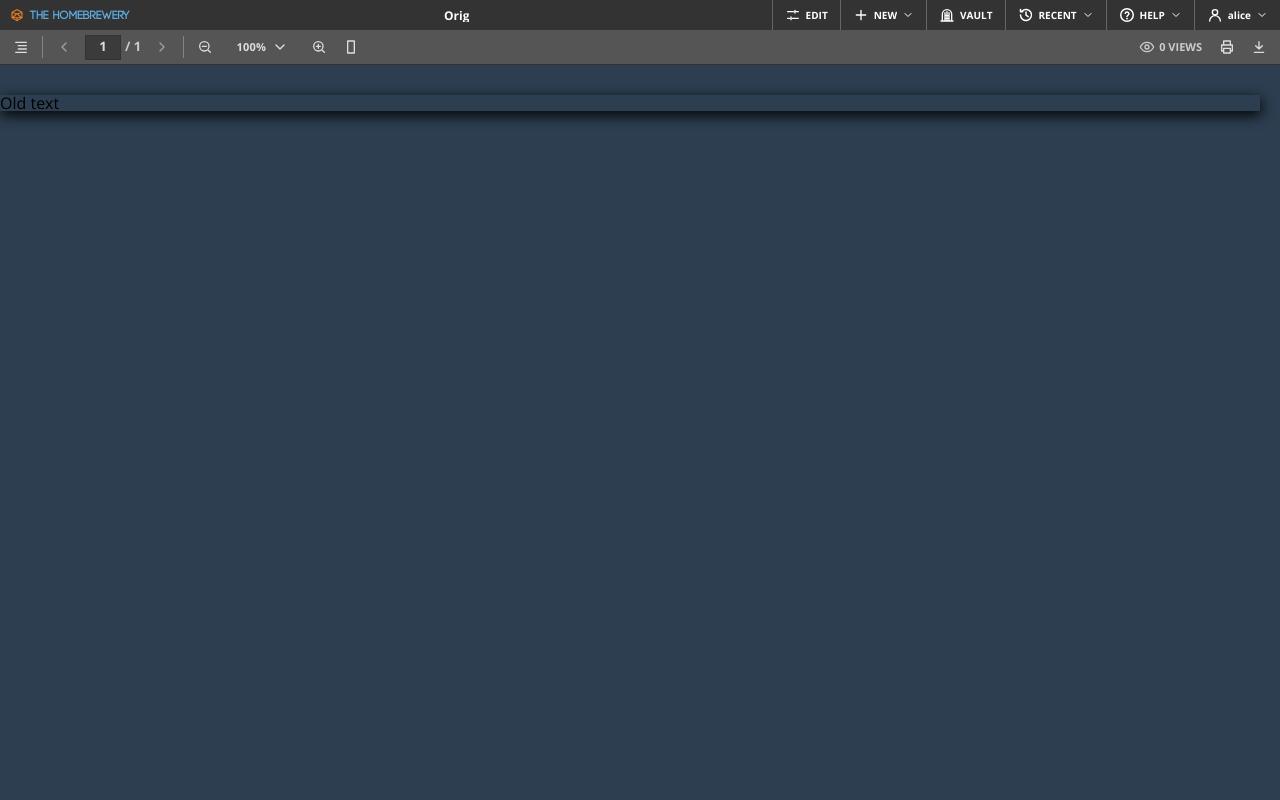
share page › an author who signs out loses the Edit link, and no view is counted
The width and height of the screenshot is (1280, 800).
Expected: the link with test id "nav-edit" is shown, [772,0,840,30]
Step 1. Click the button with aria-label "Account: alice" → click(1237, 15), box [1194,0,1279,30]
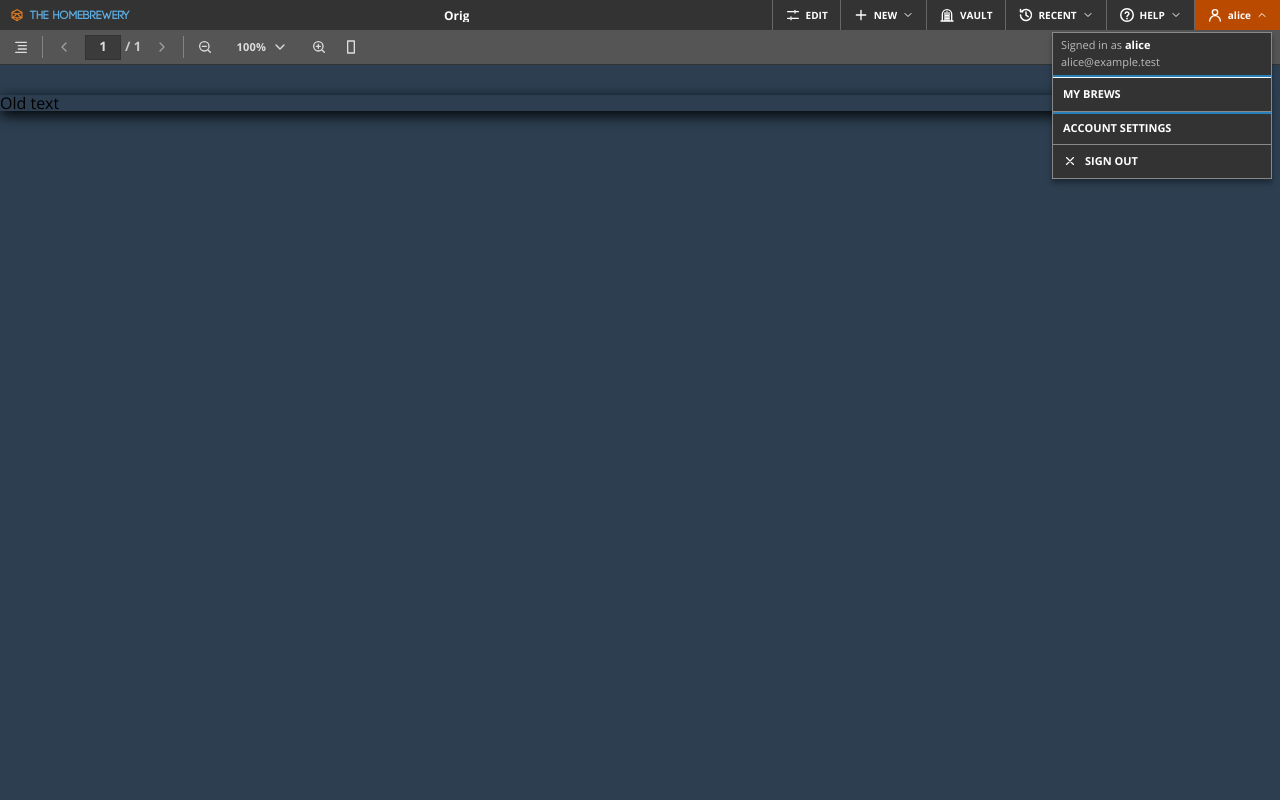
Step 2. Click the button "Sign out" → click(1162, 161), box [1053,144,1271,178]
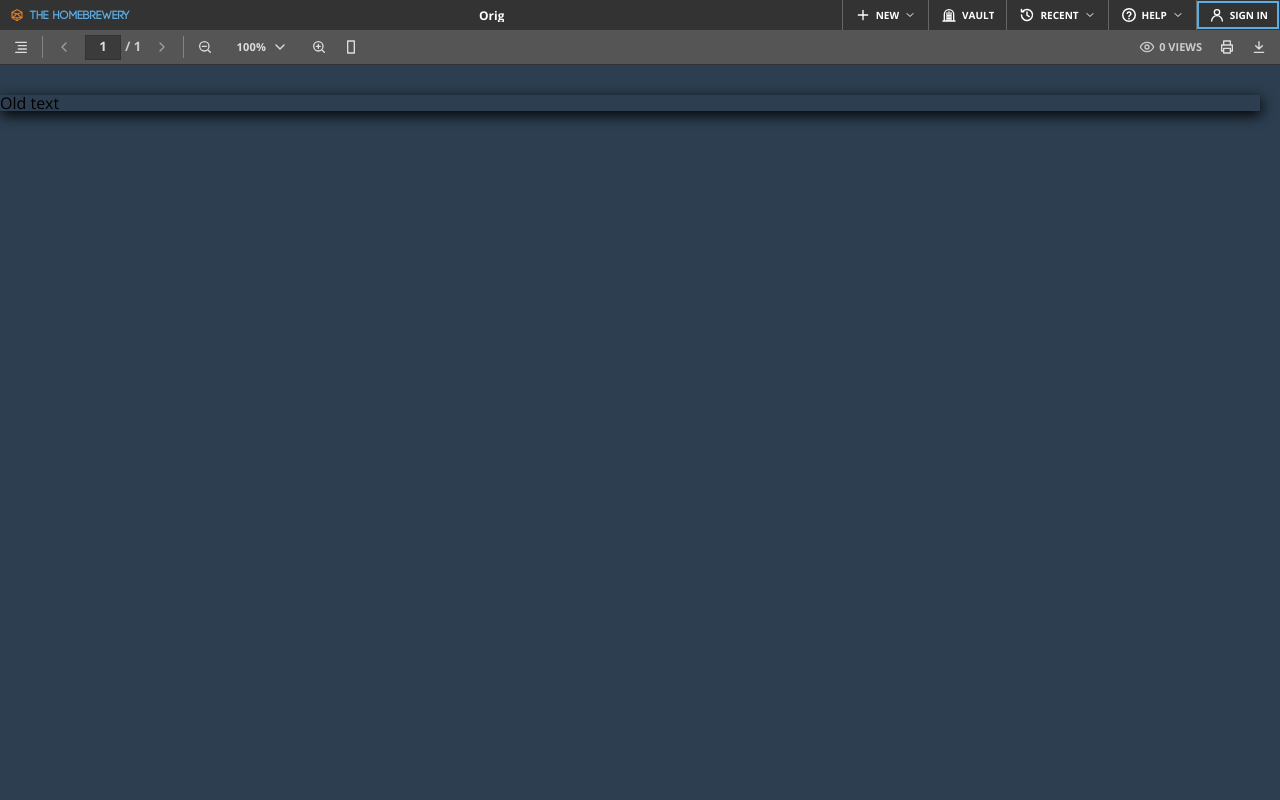
Now the link "Sign in" is shown, box [1196,0,1279,30]
Now the link with test id "nav-edit" is gone
